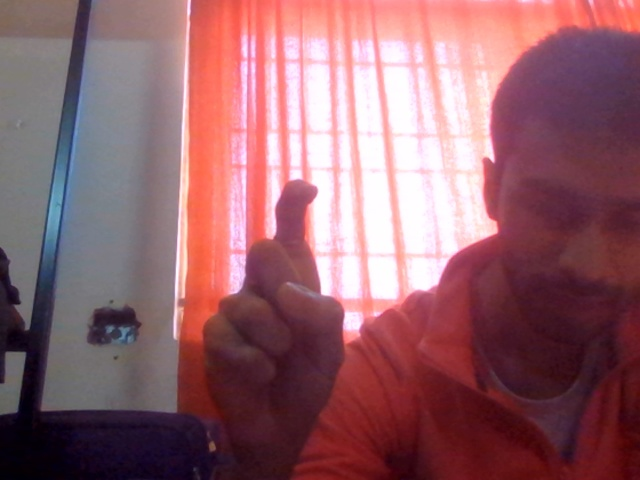X: (152, 149, 411, 480)
